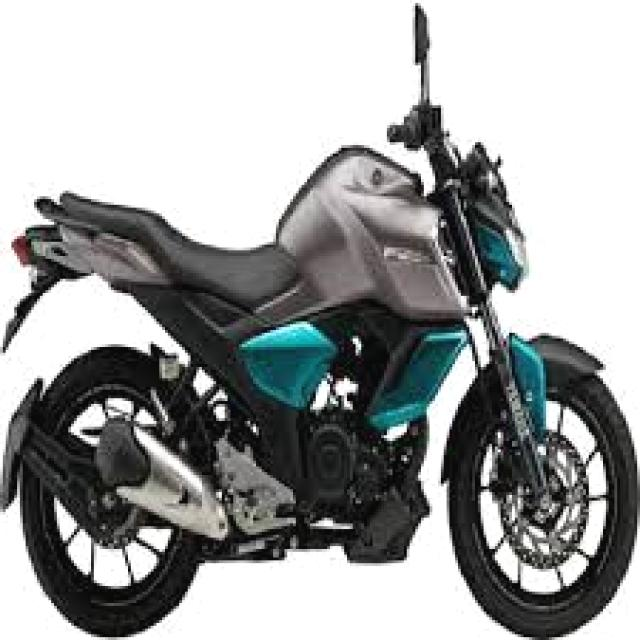MOTORCYCLE: (5, 18, 638, 634)
